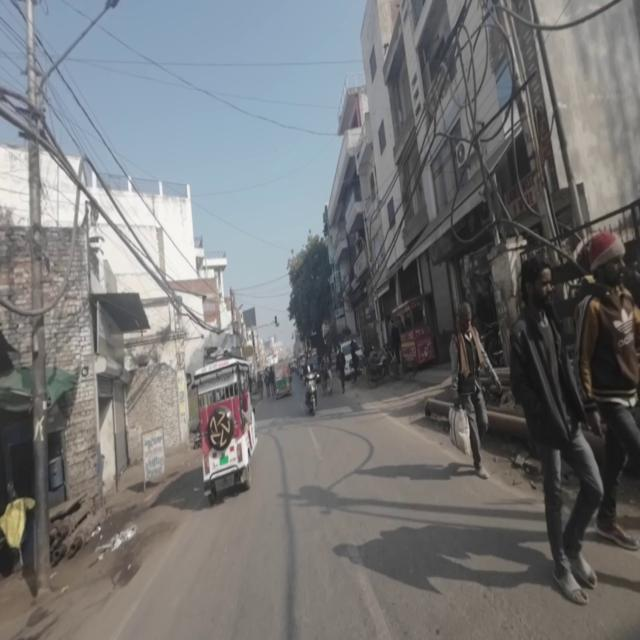Garbage: (100, 524, 139, 560)
